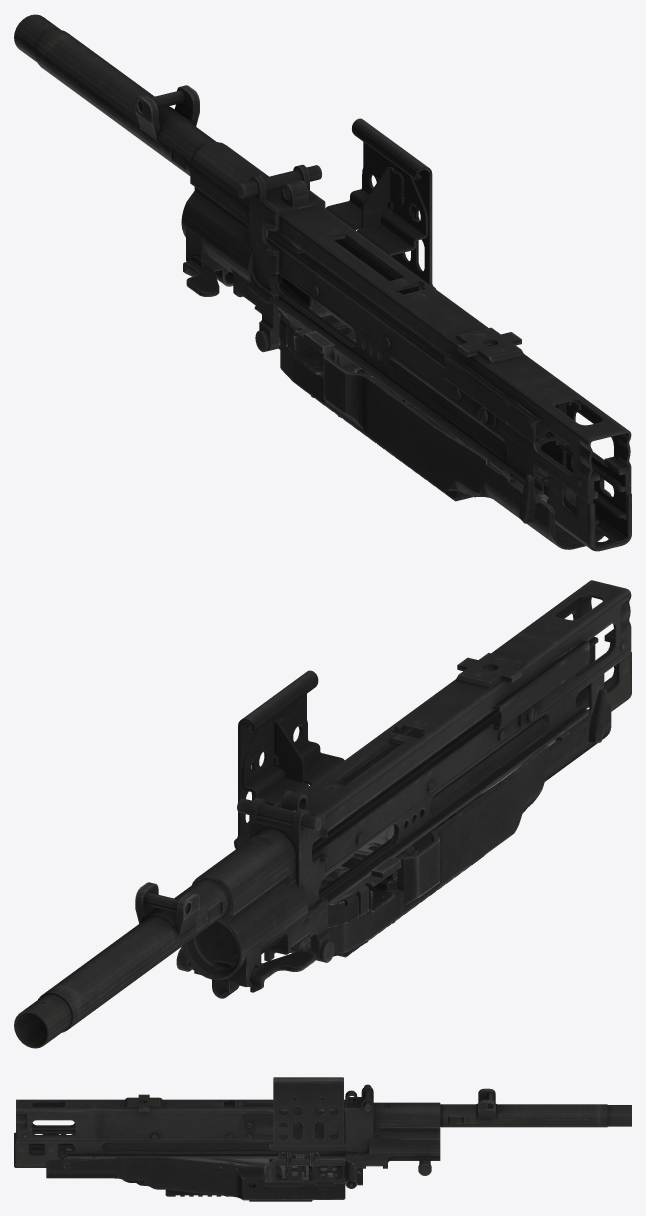
The picture shows the model from 3 angles, top to bottom: view 1: azimuth 30°, elevation 25°; view 2: azimuth 150°, elevation 25°; view 3: azimuth 270°, elevation 25°; orthographic projection. The views are drawn at different scales.
Visible parts, largest first — view 1: TW_65fb023261d5829b2d090755_PZ_Import; view 2: TW_65fb023261d5829b2d090755_PZ_Import; view 3: TW_65fb023261d5829b2d090755_PZ_Import.
Part boxes in pixels (x1,y1,x2,y2): TW_65fb023261d5829b2d090755_PZ_Import: (14, 14, 631, 551); TW_65fb023261d5829b2d090755_PZ_Import: (14, 580, 631, 1048); TW_65fb023261d5829b2d090755_PZ_Import: (14, 1077, 631, 1201).
Size of the model in its own units: 0.0519 by 0.3955 by 0.0922.
1 material, 1 textured.
